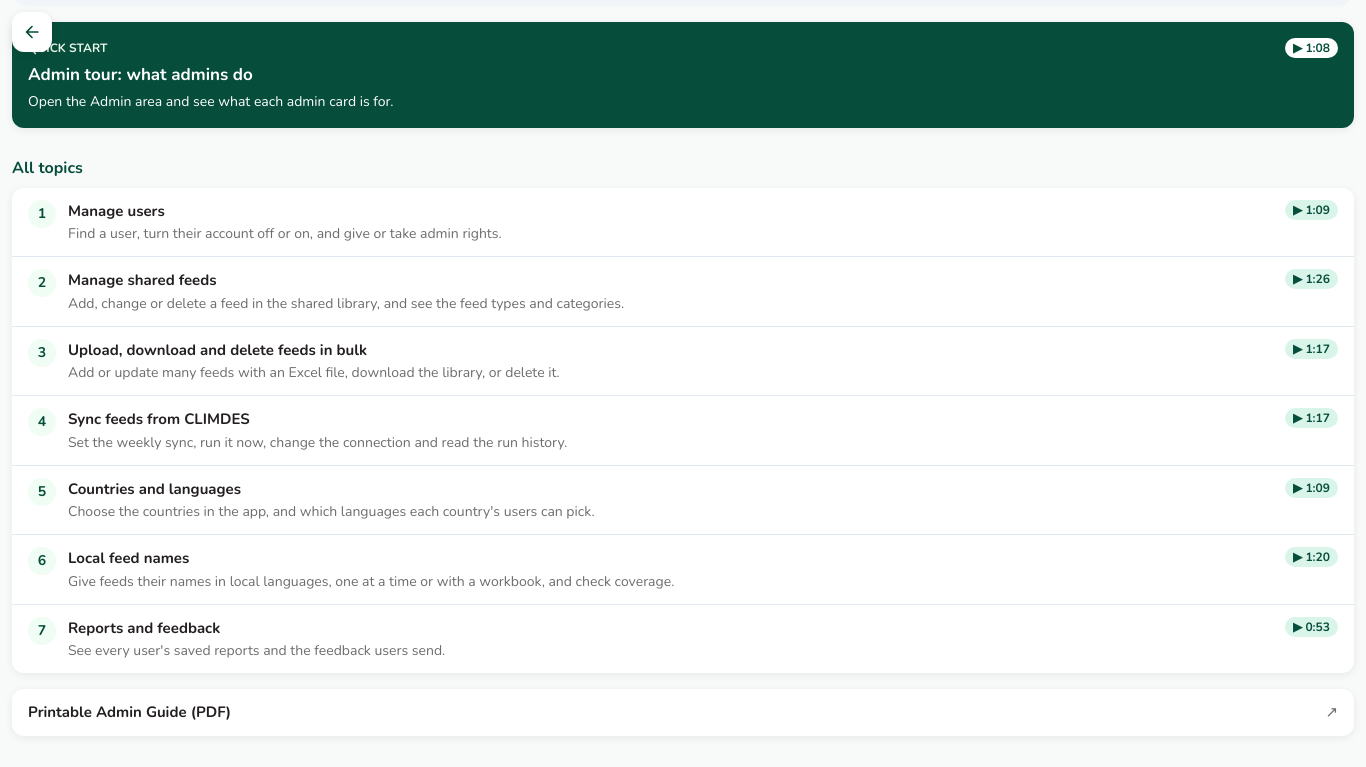
Printable Admin Guide (N20) › error 503 closes the tab and shows the help message
(page scrolled)
Click the button "Printable Admin Guide (PDF) ↗".
click(130, 712)  # box [12,689,1354,736]
(page scrolled)
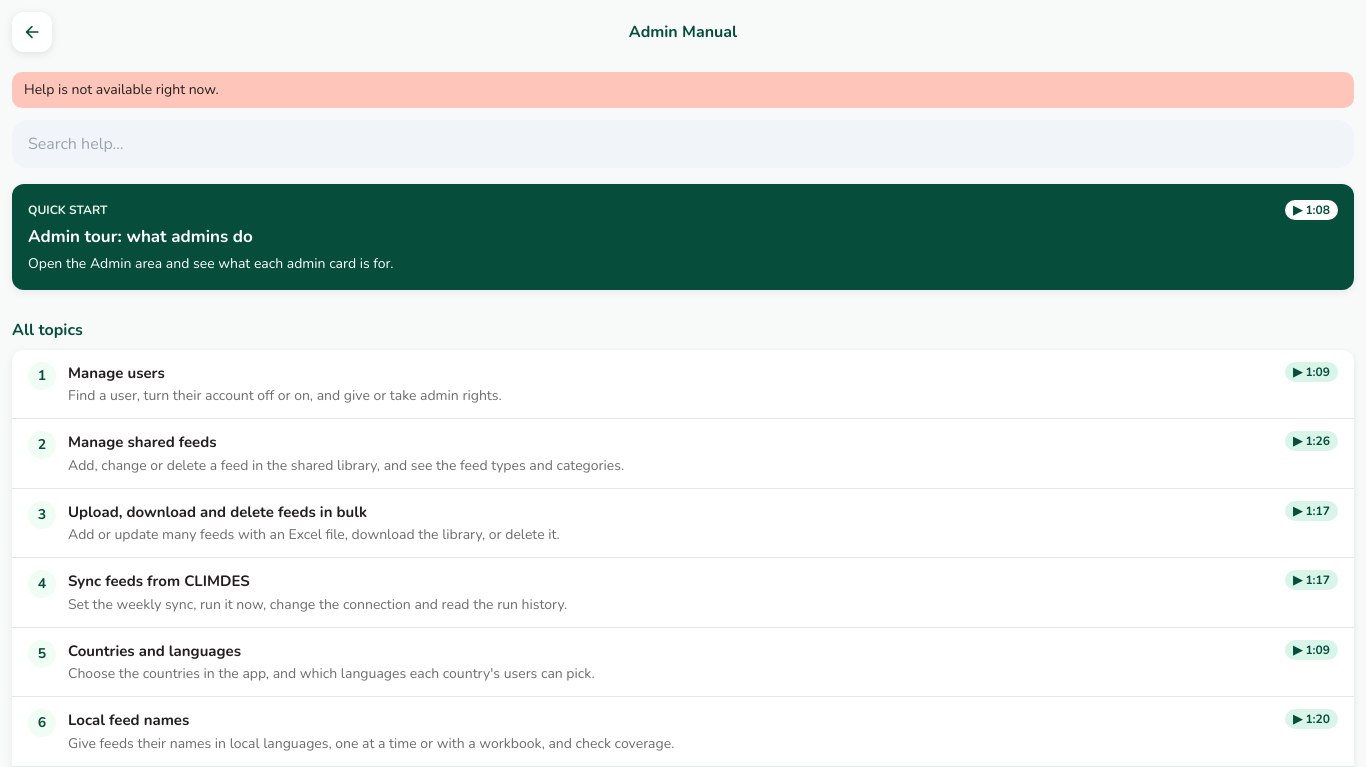
Check: the text "Help is not available right now." is shown, box [12,72,1354,108]
